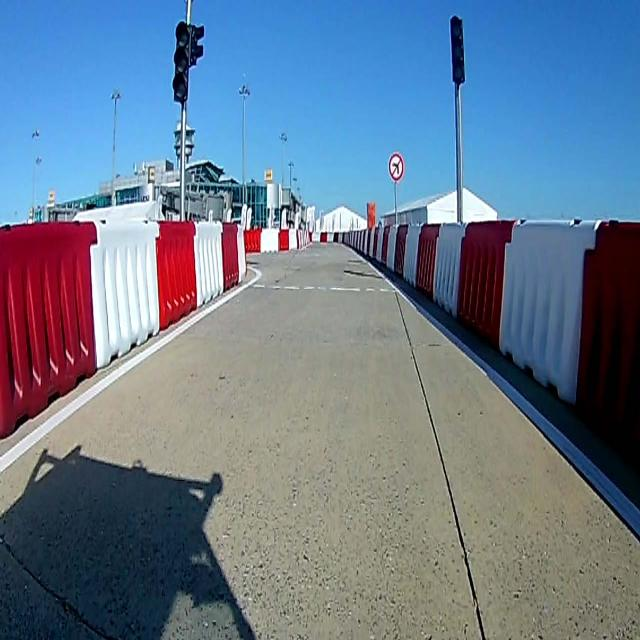soladonulmez: (388, 153, 403, 179)
